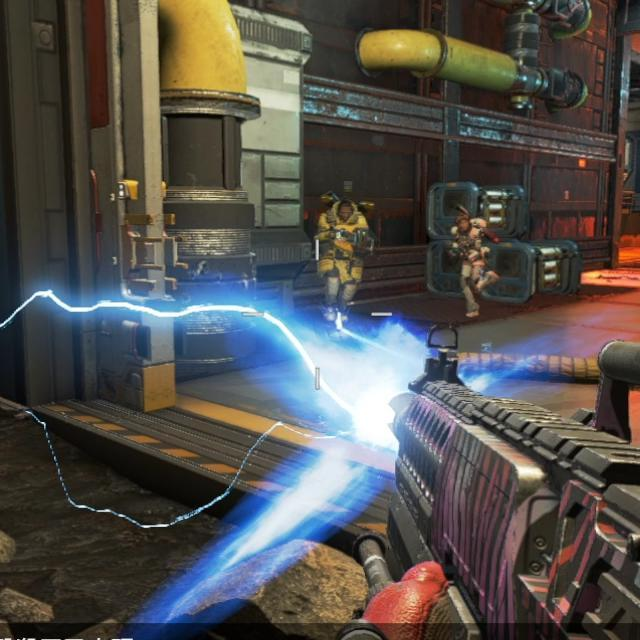avatar: (313, 196, 373, 328), (446, 212, 501, 319)
